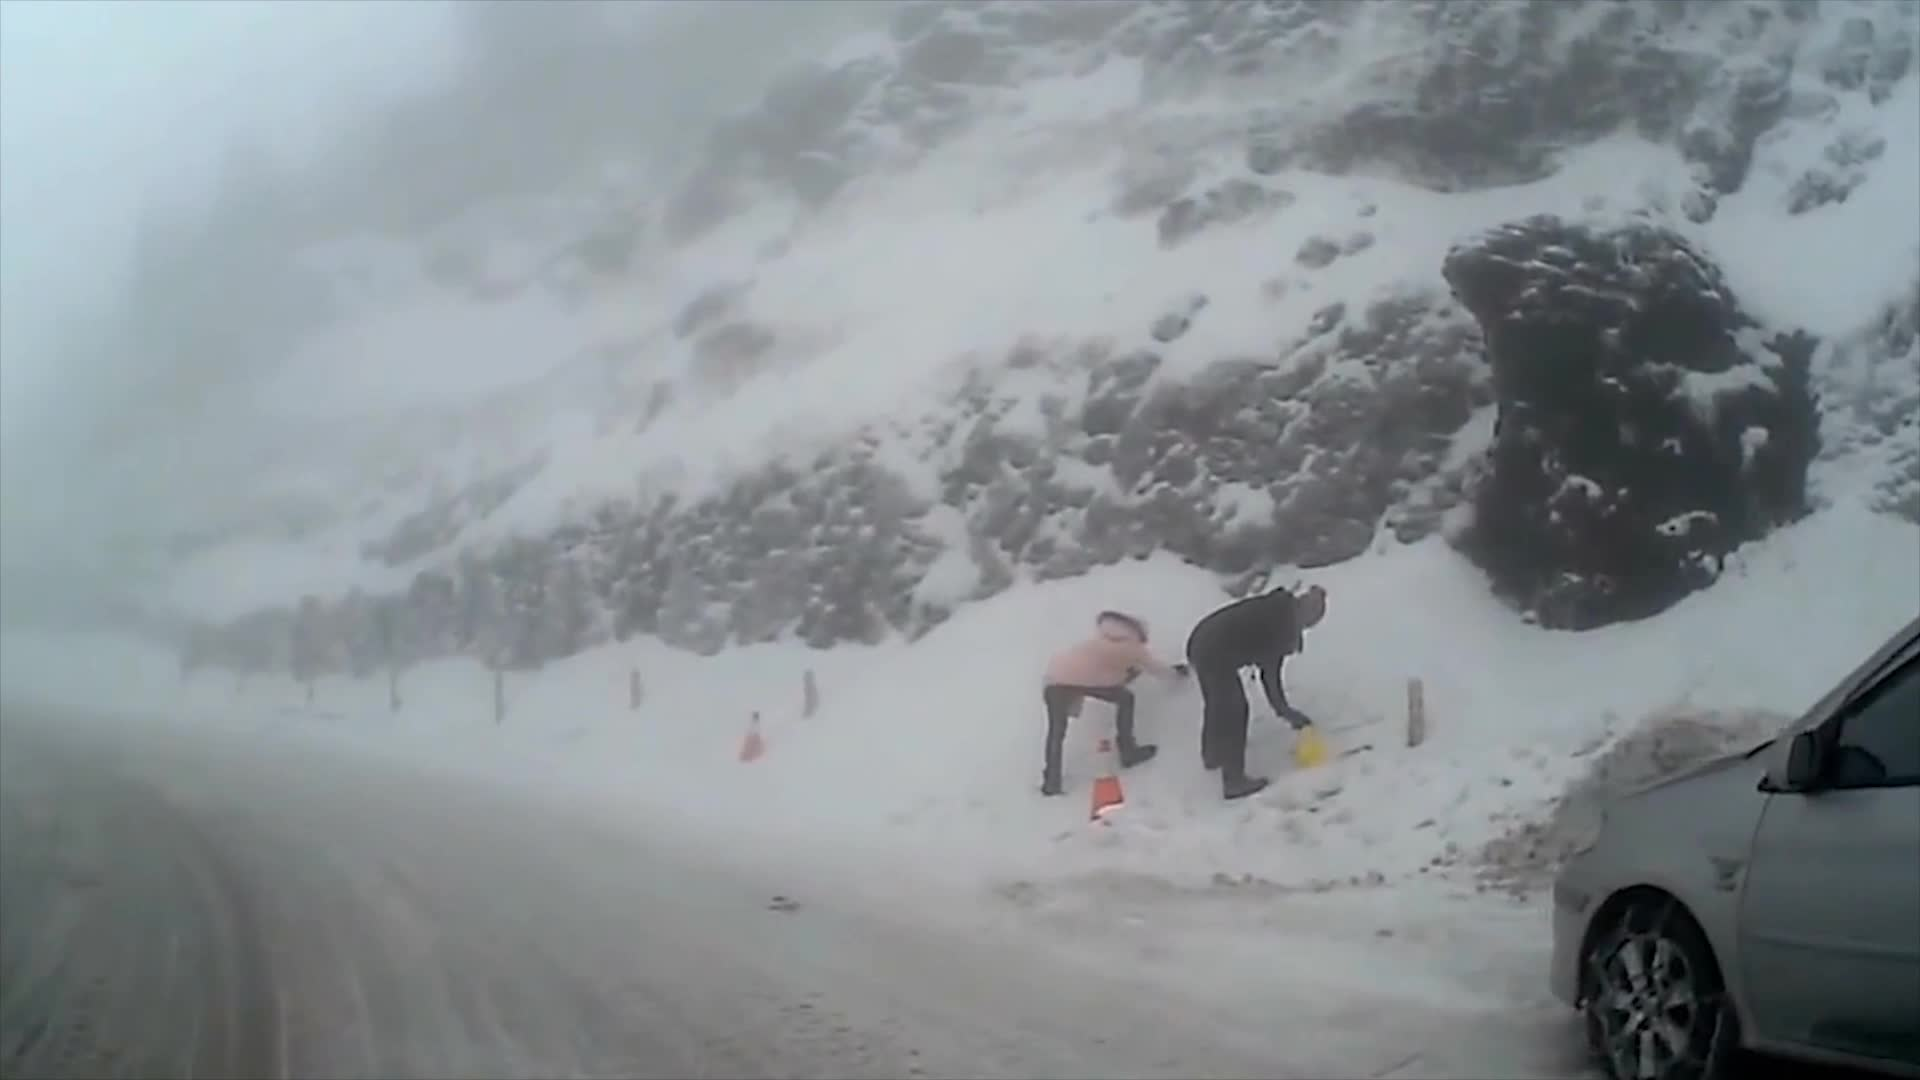pedestrian: (1186, 584, 1327, 803), (1036, 609, 1194, 798)
vehicle: (1546, 613, 1920, 1076)
